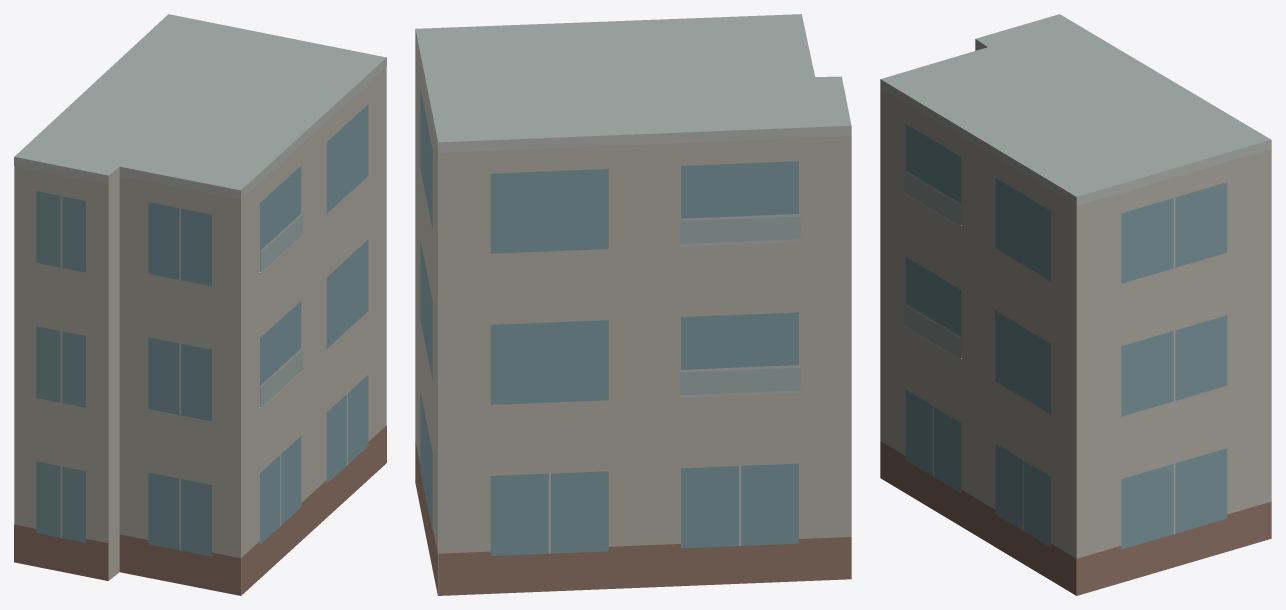
Rendered from survey-upis-33040436.glb.
3 renders of one model, left to right at view 1: azimuth 30°, elevation 25°; view 2: azimuth 150°, elevation 25°; view 3: azimuth 270°, elevation 25°, orthographic. The views are drawn at different scales.
Parts seen in each view (by area): view 1: survey-upis-33040436.tmp; view 2: survey-upis-33040436.tmp; view 3: survey-upis-33040436.tmp.
Boxes of the visible parts, box(x1,y1,x2,y2) form: survey-upis-33040436.tmp: box(14, 14, 386, 595); survey-upis-33040436.tmp: box(415, 14, 851, 595); survey-upis-33040436.tmp: box(880, 14, 1271, 595).
Bounding box in the file's own units: 10.49 × 10.65 × 9.48.
